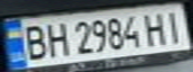2: (69, 17, 93, 56)
4: (121, 12, 145, 50)
8: (106, 15, 127, 51)
9: (90, 16, 109, 53)
B: (18, 21, 51, 61)
H: (139, 9, 172, 46), (42, 19, 69, 58)
I: (160, 7, 190, 44)
